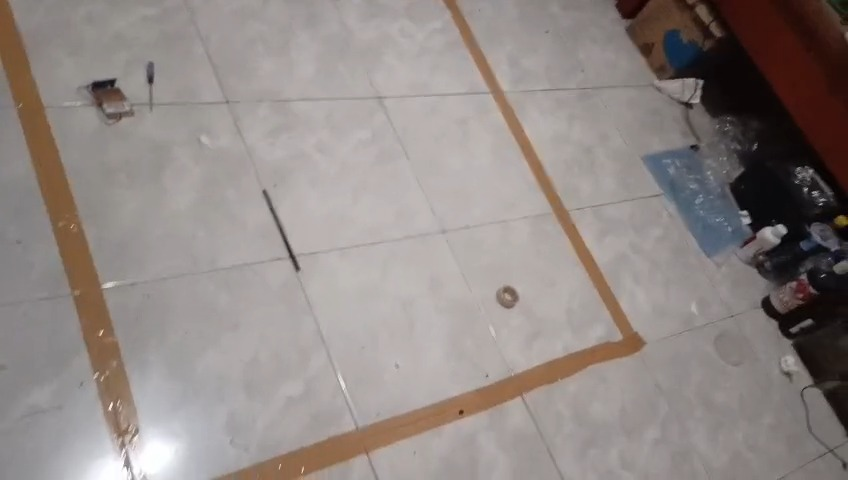floor marking: (221, 0, 644, 479), (0, 0, 143, 479)
